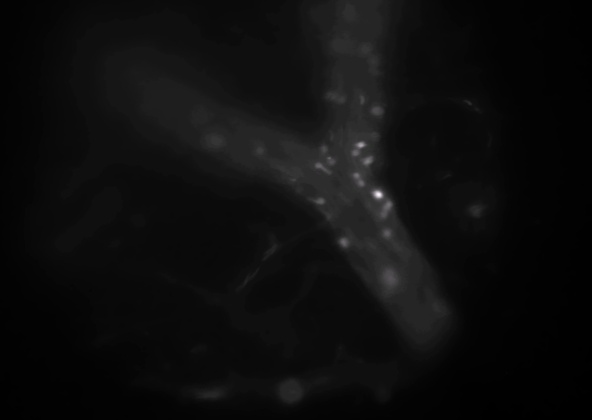cell: (371, 188, 385, 202), (353, 137, 367, 151), (370, 105, 384, 119), (349, 145, 363, 159), (362, 155, 376, 169), (317, 143, 331, 157), (311, 159, 325, 173), (323, 154, 337, 168), (323, 88, 337, 102), (350, 169, 364, 183), (332, 90, 346, 104), (353, 177, 367, 191), (337, 235, 351, 249), (382, 272, 396, 286), (382, 227, 396, 241), (381, 198, 395, 212), (377, 208, 391, 222), (379, 203, 393, 217), (313, 194, 327, 208), (286, 172, 300, 186), (254, 145, 268, 159), (207, 134, 221, 148), (358, 43, 372, 57), (367, 56, 381, 70), (333, 38, 347, 52), (366, 128, 380, 142)
